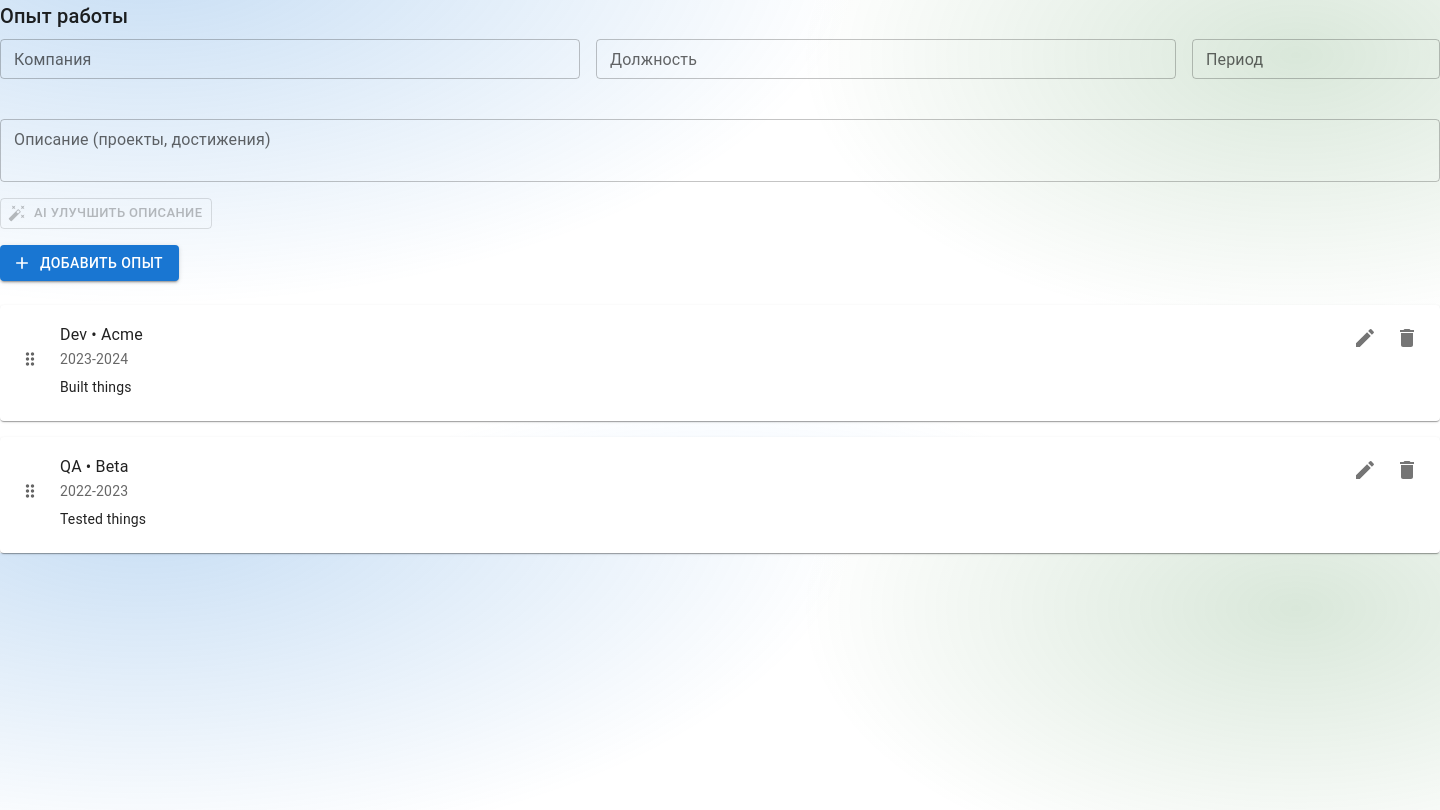
Scenario: ExperienceBlock delete confirmation › clicking delete opens confirmation dialog
Click the button named "Удалить опыт" in the row of "Acme" at (1407, 338), box [1390, 321, 1424, 355]
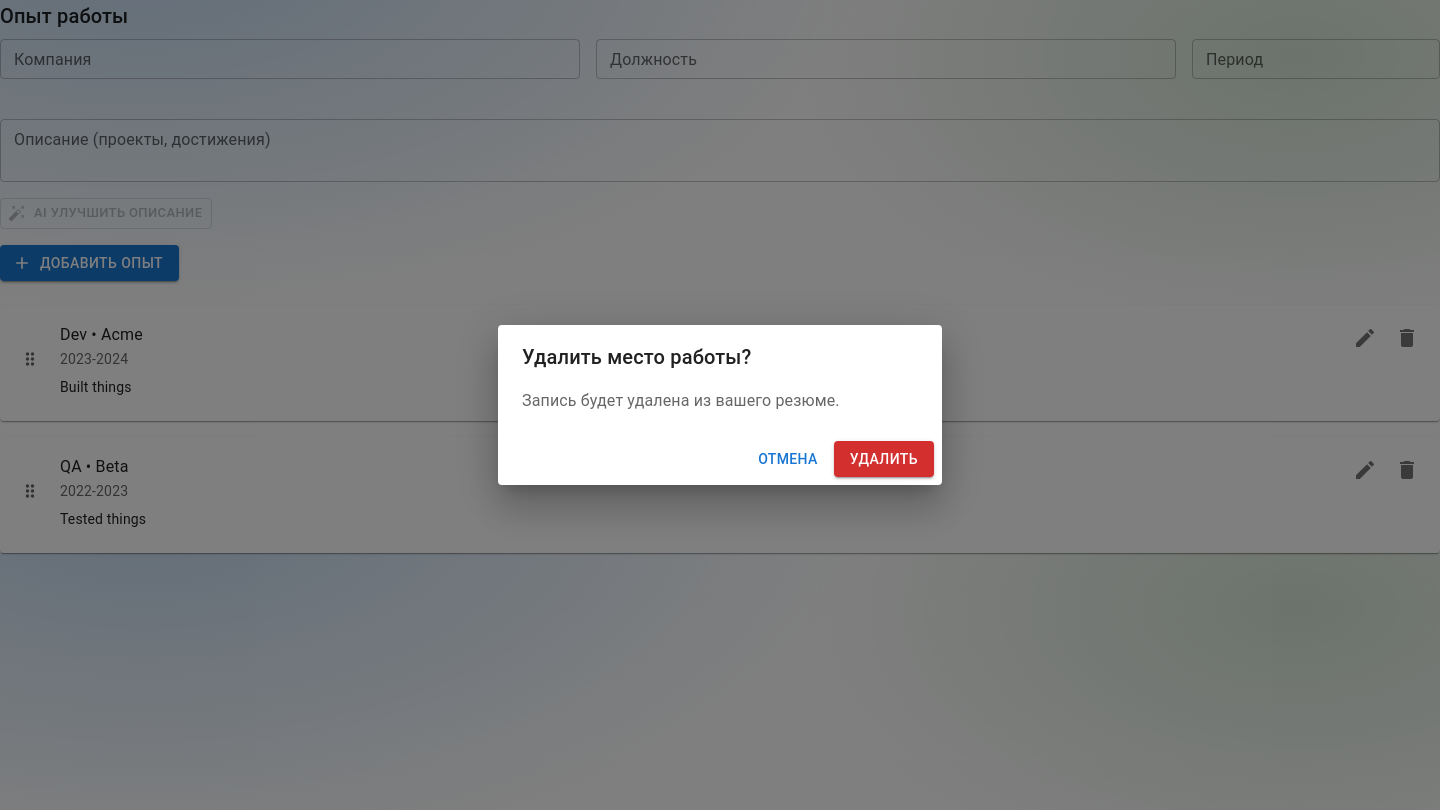
Check: the dialog is shown, box [498, 325, 942, 485]
Check: the heading "Удалить место работы?" is shown, box [522, 345, 751, 369]
